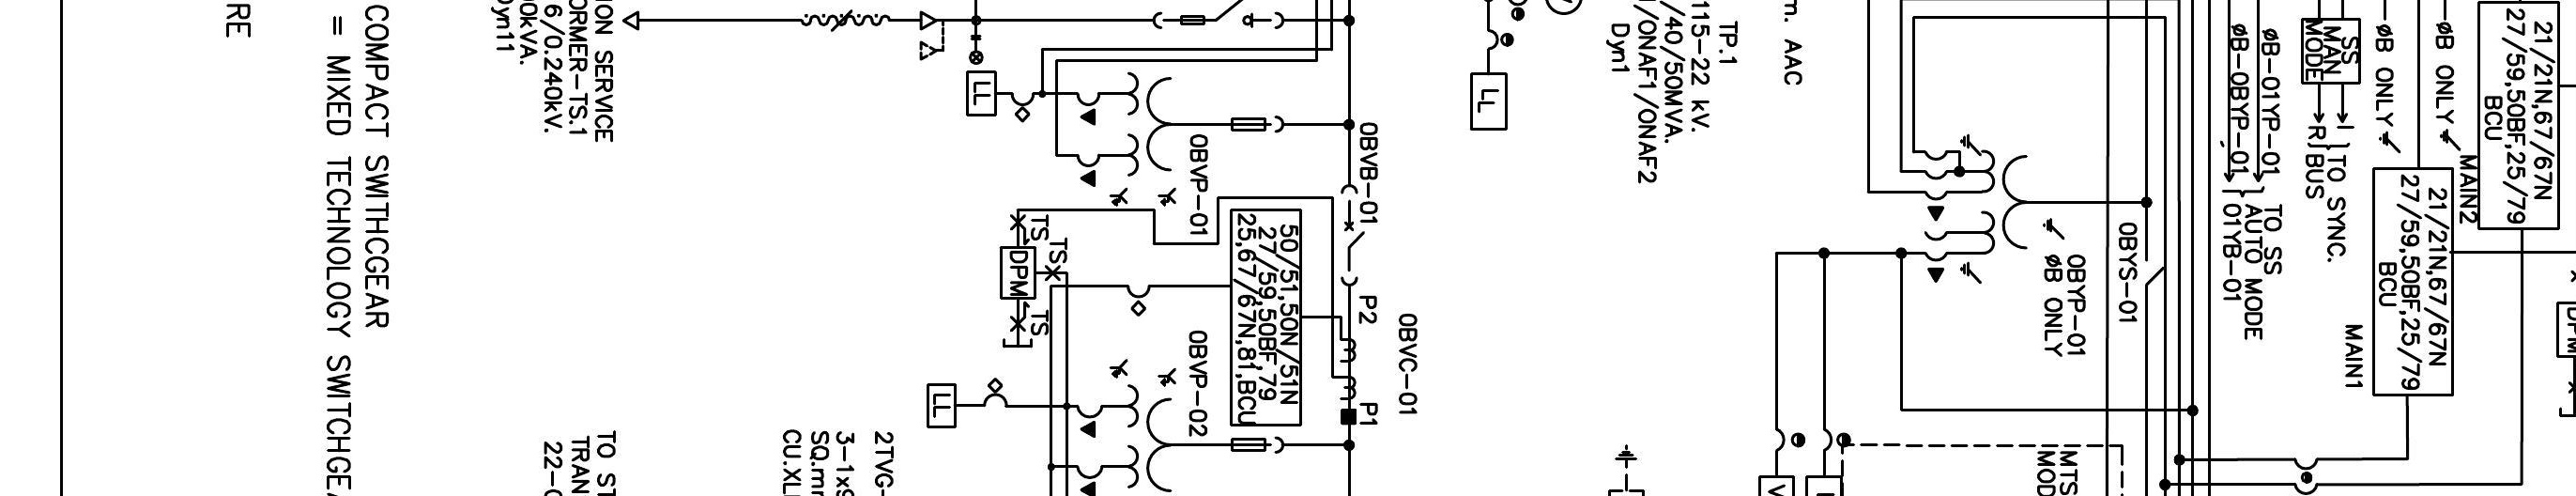115_ds: (2144, 257, 2164, 286)
115_vt_1p: (1924, 132, 2066, 285)
22_breaker: (1340, 184, 1366, 287)
22_ll: (969, 34, 984, 66)
22_vt_3p: (1076, 71, 1285, 208)
DPM: (999, 245, 1037, 301)
LL: (1469, 71, 1509, 132), (965, 70, 998, 117), (926, 382, 958, 429)
ss_man_mode: (2300, 17, 2362, 85)
terminator_single: (621, 9, 640, 31)
terminator_w_future: (919, 10, 945, 63)
